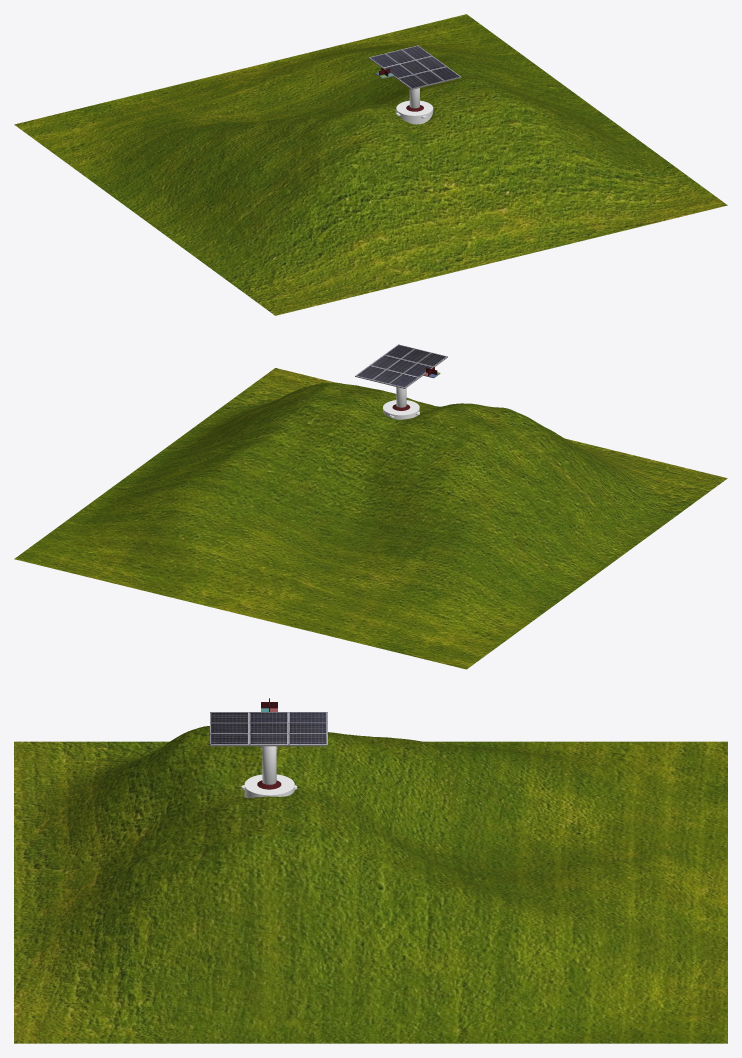
Rendered from panel.glb.
3 renders of one model, top to bottom at view 1: azimuth 30°, elevation 25°; view 2: azimuth 150°, elevation 25°; view 3: azimuth 270°, elevation 25°, orthographic. The views are drawn at different scales.
Visible parts, largest first — view 1: Landscape, panel, base; view 2: Landscape, panel; view 3: Landscape, panel, base, verticalAxle.
Boxes of the visible parts, left/top/right/bottom form: Landscape: left=14, top=14, right=727, bottom=315; panel: left=368, top=45, right=461, bottom=89; base: left=396, top=100, right=433, bottom=124; Landscape: left=14, top=368, right=727, bottom=669; panel: left=355, top=344, right=447, bottom=388; Landscape: left=14, top=726, right=727, bottom=1043; panel: left=210, top=712, right=327, bottom=746; base: left=244, top=774, right=294, bottom=798; verticalAxle: left=262, top=746, right=276, bottom=784.
Size of the model in its own units: 2 by 0.5406 by 2.
6 materials, 3 textured.
